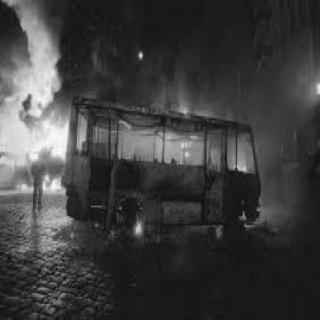Fire: (117, 108, 224, 170), (25, 108, 69, 190), (76, 102, 114, 156), (172, 85, 220, 118), (226, 124, 254, 172), (129, 216, 150, 240)
other: (288, 51, 318, 109)
